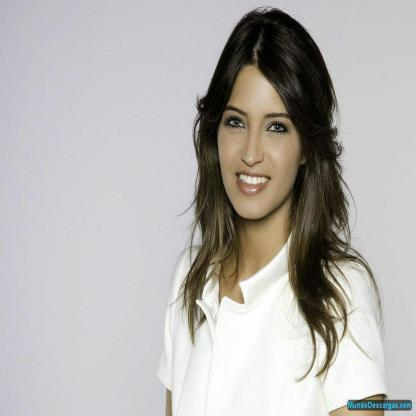long-hair: (179, 218, 350, 260)
